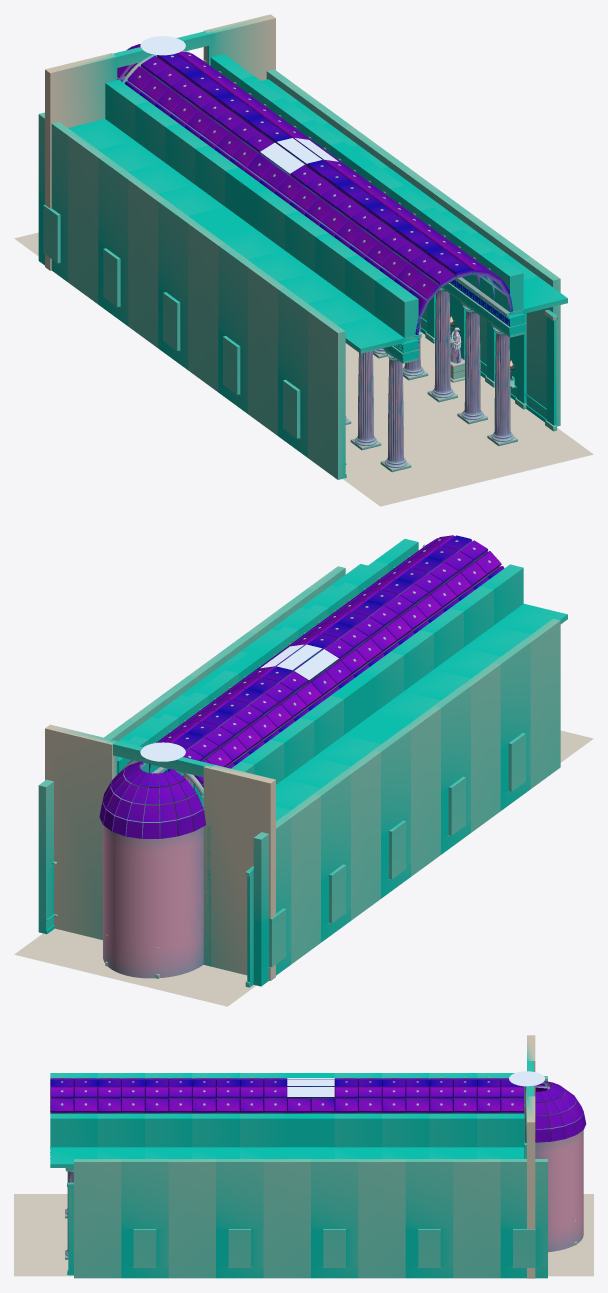
Rendered from temple.glb.
The picture shows the model from 3 angles, top to bottom: view 1: azimuth 30°, elevation 25°; view 2: azimuth 150°, elevation 25°; view 3: azimuth 270°, elevation 25°; orthographic projection. The views are drawn at different scales.
Visible parts, largest first — view 1: Floor, Vault.001, Apse, Vault.002, Vault.007, Vault.008, VaultSky.001, Vault.005, Vault.003, Vault.004, Vault.009, Vault.006 (+24 smaller); view 2: Apse, Vault.001, Floor, Vault.007, VaultSky.001, Vault.004, Vault.003, Vault.002, Vault.006, Vault.005, WallNiche.010, Vault.008 (+12 smaller); view 3: Apse, Floor, WallPlain.001, WallNiche.007, WallNiche.001, WallNiche.003, WallPlain.007, WallPlain.009, WallPlain.003, WallPlain.005, WallNiche.005, WallNiche.009 (+11 smaller).
Part boxes in pixels (x1,y1,x2,y2): Floor: [14, 232, 593, 506]; Vault.001: [338, 248, 567, 353]; Apse: [45, 14, 275, 270]; Vault.002: [308, 226, 537, 325]; Vault.007: [128, 94, 357, 193]; Vault.008: [98, 72, 327, 171]; VaultSky.001: [188, 138, 417, 237]; Vault.005: [218, 160, 447, 259]; Vault.003: [278, 204, 507, 303]; Vault.004: [248, 182, 477, 281]; Vault.009: [68, 51, 297, 149]; Vault.006: [158, 116, 387, 215]; Apse: [45, 724, 275, 980]; Vault.001: [331, 535, 567, 634]; Floor: [14, 730, 593, 1006]; Vault.007: [121, 688, 350, 787]; VaultSky.001: [181, 644, 410, 744]; Vault.004: [241, 601, 470, 700]; Vault.003: [271, 579, 500, 678]; Vault.002: [301, 557, 530, 656]; Vault.006: [151, 666, 380, 765]; Vault.005: [211, 623, 440, 722]; WallNiche.010: [245, 816, 291, 987]; Vault.008: [118, 710, 321, 809]; Apse: [524, 1035, 586, 1278]; Floor: [14, 1194, 593, 1276]; WallPlain.001: [67, 1159, 121, 1278]; WallNiche.007: [405, 1159, 453, 1278]; WallNiche.001: [121, 1159, 168, 1278]; WallNiche.003: [216, 1159, 263, 1278]; WallPlain.007: [358, 1159, 405, 1278]; WallPlain.009: [453, 1159, 500, 1278]; WallPlain.003: [168, 1159, 215, 1278]; WallPlain.005: [263, 1159, 310, 1278]; WallNiche.005: [311, 1159, 358, 1278]; WallNiche.009: [500, 1159, 547, 1278].
Bounding box in the file's own units: 15 × 12.4 × 41.6.
